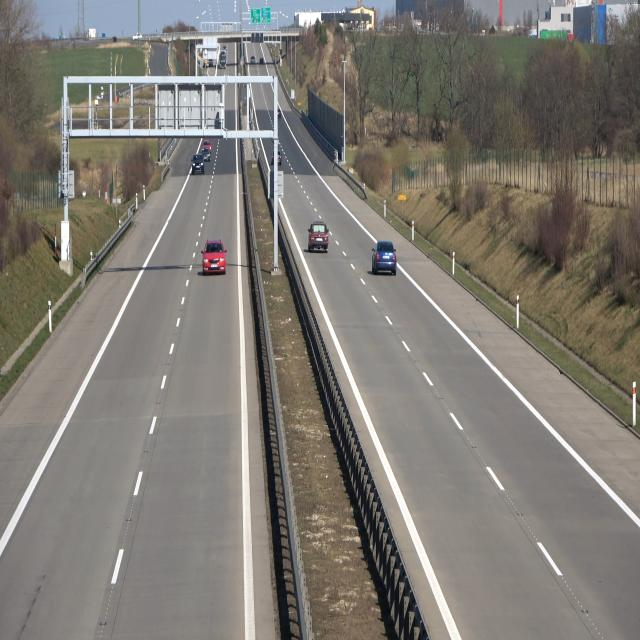Car: (201, 240, 228, 278), (371, 240, 398, 276), (306, 221, 331, 256), (192, 154, 205, 174)
